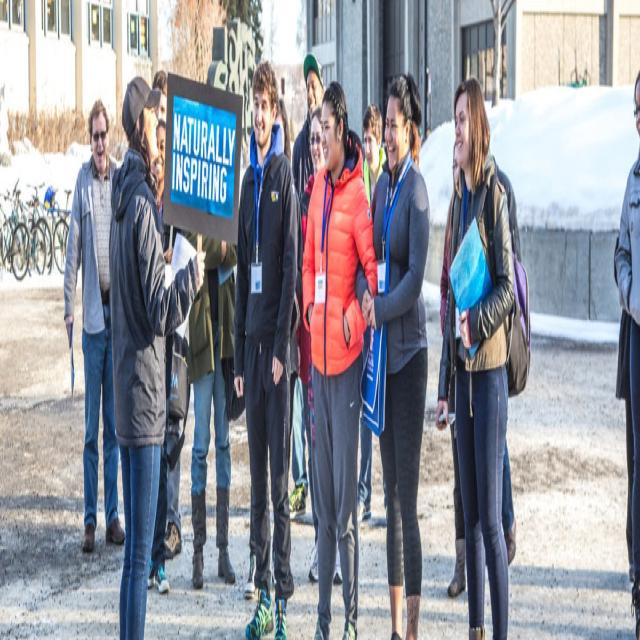body: (105, 71, 208, 639), (433, 72, 533, 638), (353, 66, 433, 638), (299, 76, 380, 638), (231, 56, 300, 638), (243, 95, 301, 602), (62, 97, 126, 556), (296, 108, 344, 587), (183, 229, 238, 593), (288, 50, 326, 523), (146, 117, 181, 596), (613, 66, 639, 638), (490, 149, 523, 569), (356, 101, 388, 525), (439, 135, 468, 600), (615, 249, 635, 590), (152, 70, 168, 124)
